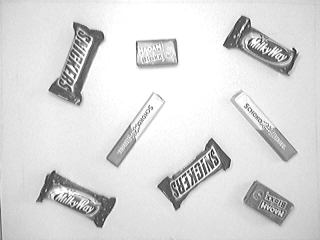Maoam: (241, 178, 296, 228), (134, 37, 180, 69)
Milkyway: (221, 13, 302, 78), (33, 168, 118, 229)
Riegel: (229, 87, 300, 164), (104, 90, 167, 169)
Snickers: (155, 136, 232, 213), (45, 19, 107, 108)
